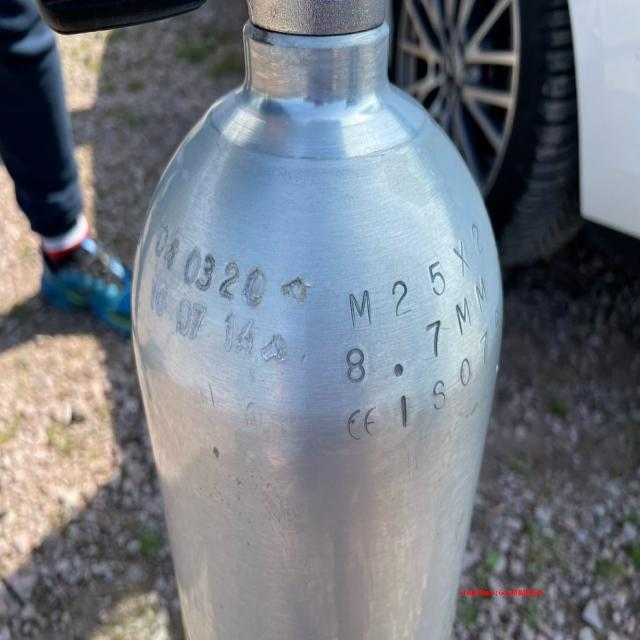ocr: (140, 211, 499, 454)
